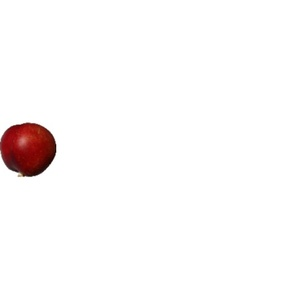nectarina: (1, 122, 57, 178)
